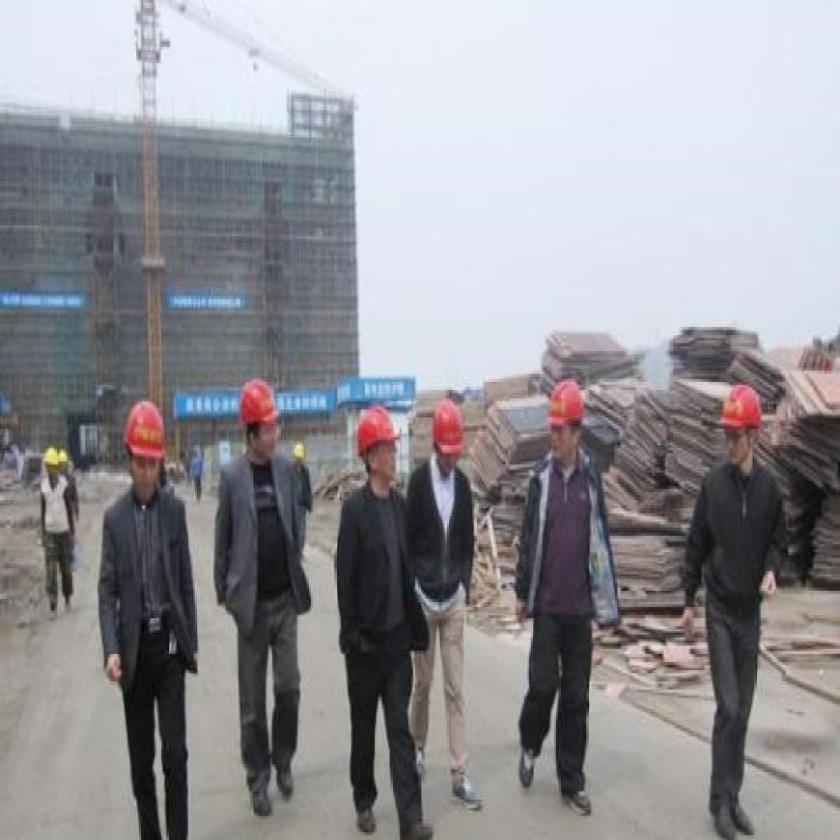Con_casco: (124, 396, 169, 503), (720, 381, 765, 471), (546, 376, 587, 468), (239, 378, 282, 462), (356, 406, 400, 483), (430, 396, 466, 475)
